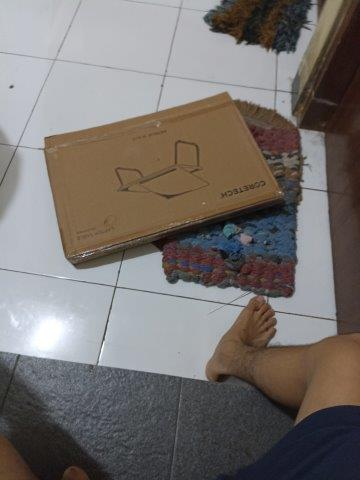kardus: (48, 94, 281, 265)
